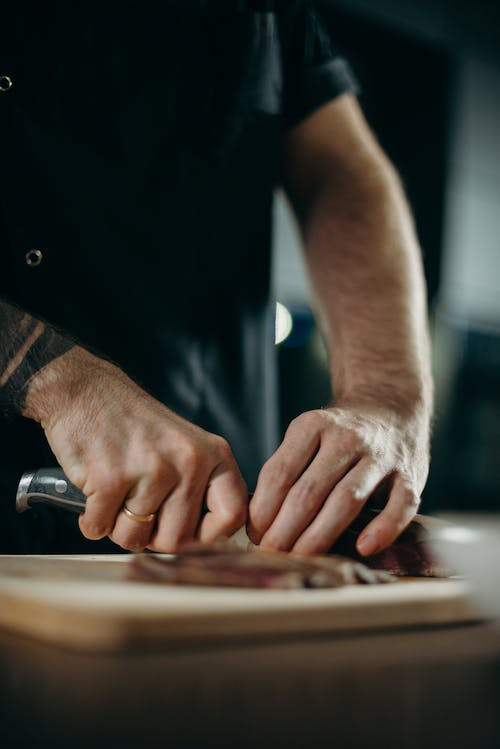knife: (13, 464, 472, 580)
